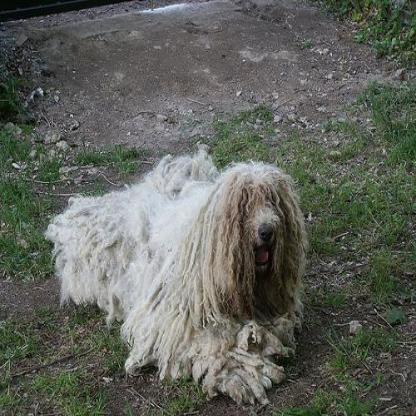komondor: (52, 126, 312, 412)
